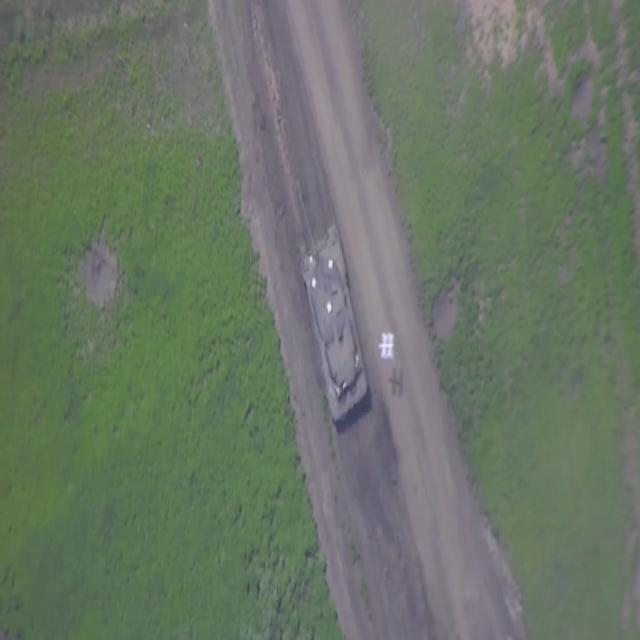MBT: (290, 173, 372, 431)
